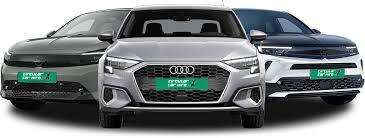car: (98, 8, 266, 127), (2, 7, 135, 111), (230, 10, 365, 110)
